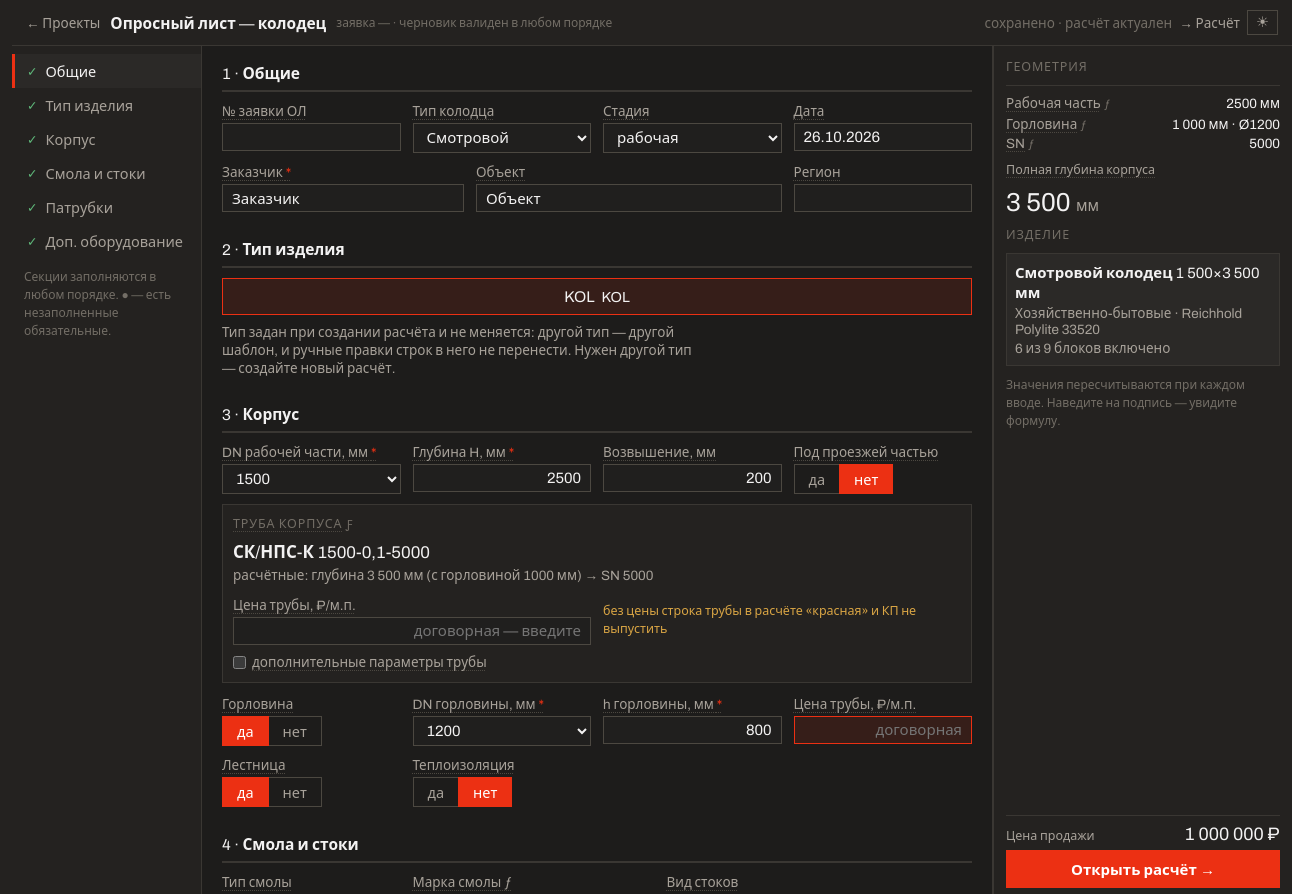
ОЛ КОЛ: автосохранение › статус «сохранено» сообщает о непереносимых ручных правках
Select "2500" in the dropdown labelled "DN рабочей части, мм *". click: [311, 479]
box: [222,464,400,494]
Wait 710 ms
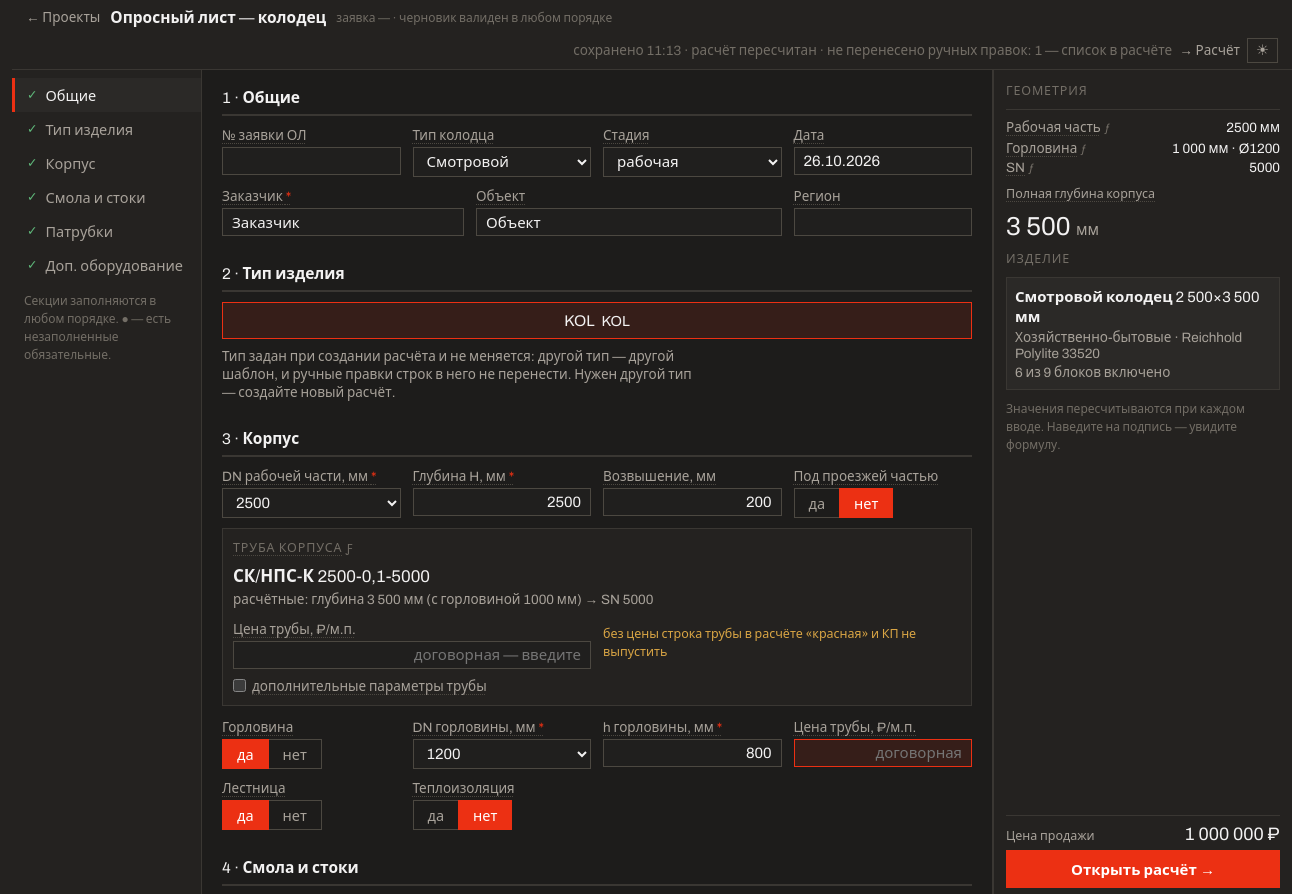
Result: the text with class "ol-draft" shows "не перенесено ручных правок: 1 — список в расчёте" at [573,43,1172,58]
